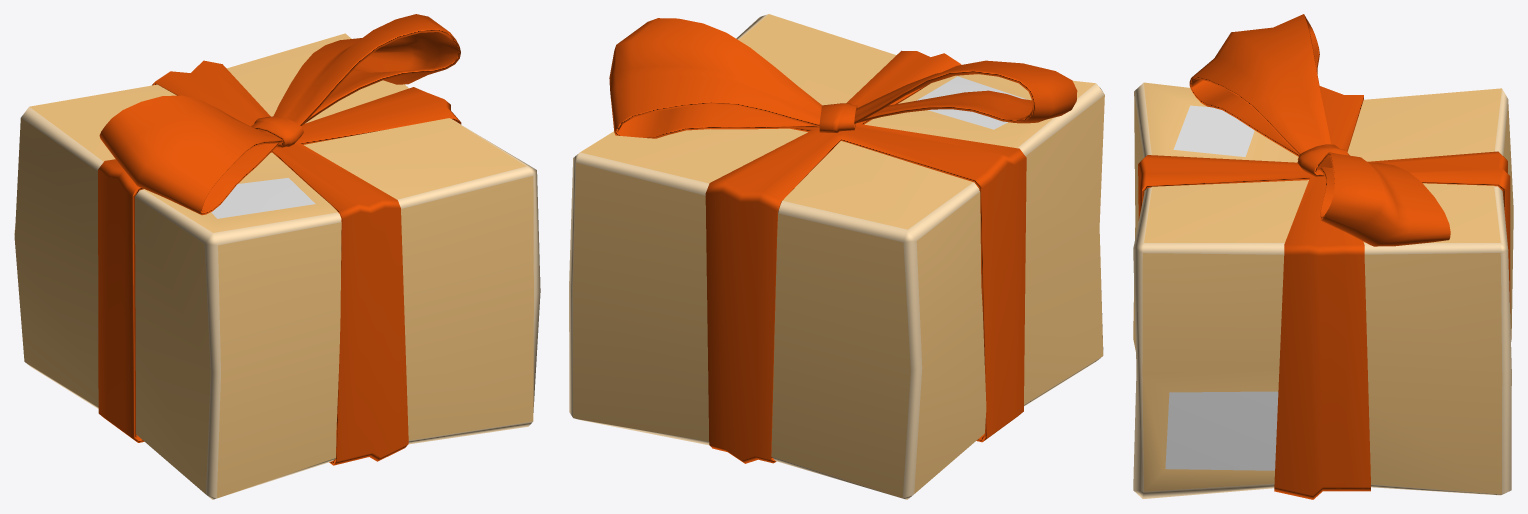
3 renders of one model, left to right at view 1: azimuth 30°, elevation 25°; view 2: azimuth 150°, elevation 25°; view 3: azimuth 270°, elevation 25°, orthographic. The views are drawn at different scales.
Parts seen in each view (by area): view 1: box_002; view 2: box_002; view 3: box_002.
Part boxes in pixels (<box>): box_002: <box>14,14,540,499</box>; box_002: <box>569,14,1104,499</box>; box_002: <box>1133,14,1513,499</box>.
Bounding box in the file's own units: 227 × 205 × 198.
